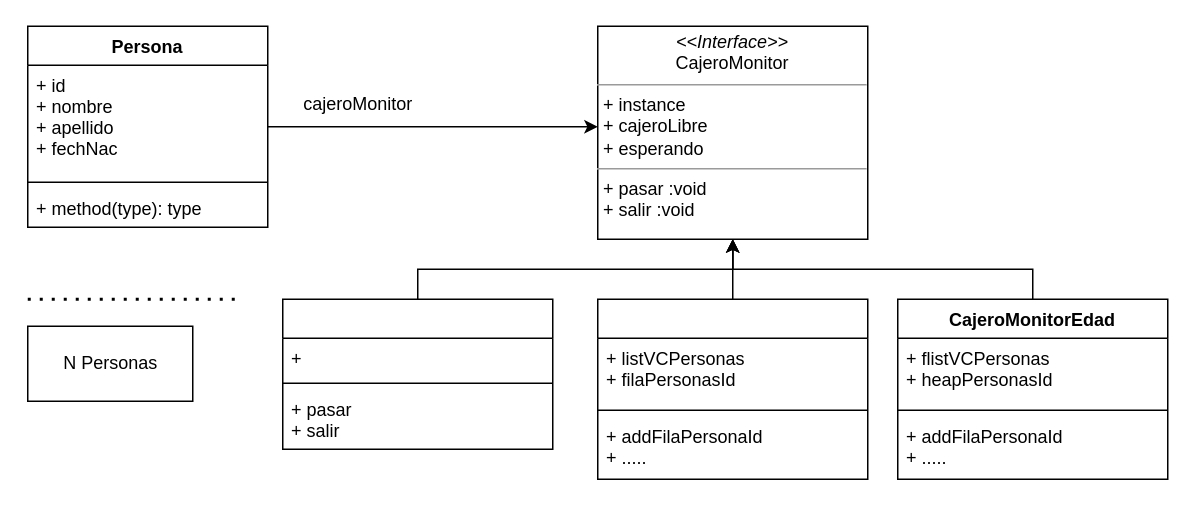
Some shapes in this 1194 by 510 pixel diagram are drawn without their labels. Here are the shapes that lost their labels. From the top down, the box of each, then its label:
(281, 298, 553, 449): CajeroMonitorSimple
(596, 298, 868, 479): CajeroMonitorPrioridad
